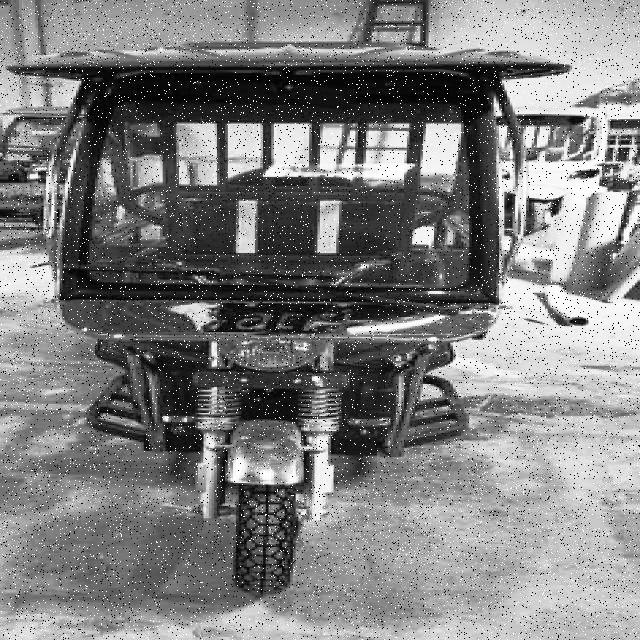Toto: (25, 28, 559, 605)
